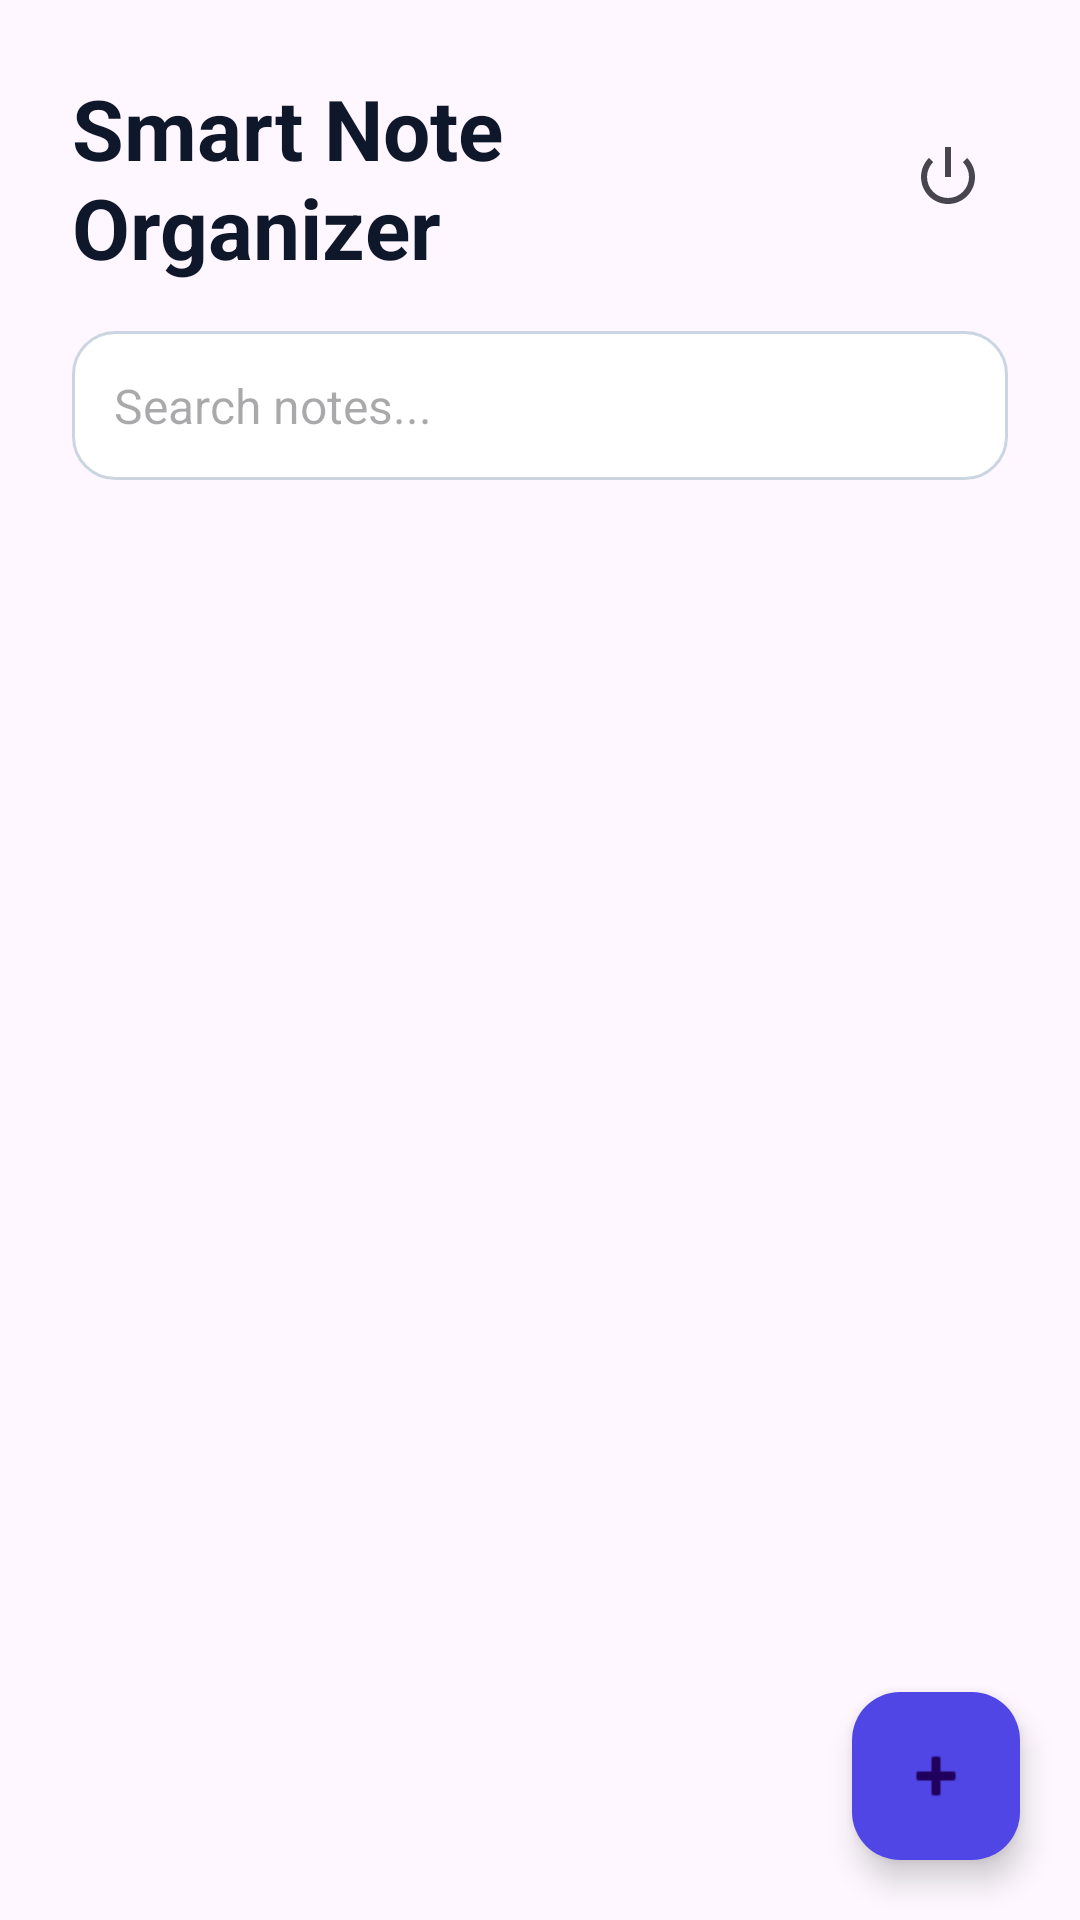

Locate icon controls on the screen. Image size 1080px x 1920px, boxes as (x1, y1, x2, y2).
Add Note: (852, 1692, 1020, 1860)
